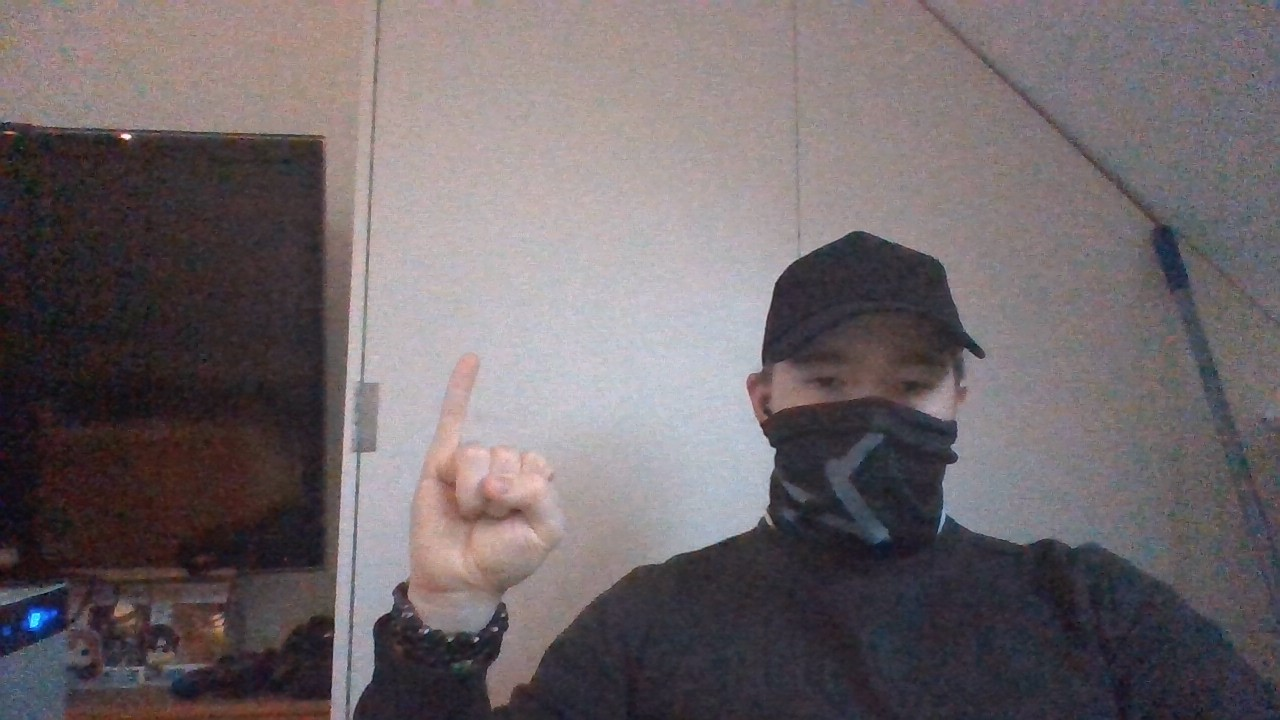I" Sign language: (366, 341, 595, 618)
